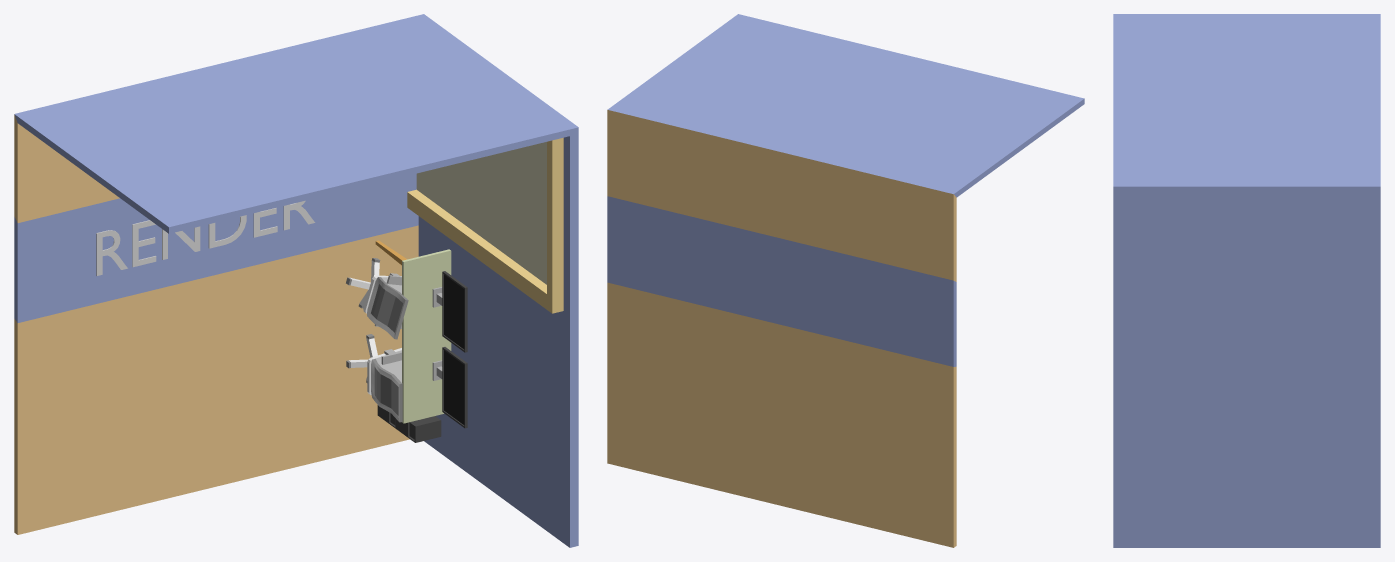
3 renders of one model, left to right at view 1: azimuth 30°, elevation 25°; view 2: azimuth 150°, elevation 25°; view 3: azimuth 270°, elevation 25°, orthographic. The views are drawn at different scales.
Parts seen in each view (by area): view 1: Cube.001, Cube.045, Cube.046, Cube.048, Cube.050, Cube.047, Text, Cube.051, Cube.055, Cube.052, Cube.049, Cube.062; view 2: Cube.045, Cube.001, Cube.046; view 3: Cube.001.
Boxes of the visible parts, x1=… form: Cube.001: x1=14, y1=14, x2=578, y2=547; Cube.045: x1=14, y1=115, x2=418, y2=534; Cube.046: x1=14, y1=173, x2=418, y2=322; Cube.048: x1=416, y1=142, x2=546, y2=284; Cube.050: x1=402, y1=249, x2=451, y2=423; Cube.047: x1=407, y1=137, x2=563, y2=313; Text: x1=96, y1=200, x2=315, y2=275; Cube.051: x1=346, y1=258, x2=408, y2=339; Cube.055: x1=367, y1=348, x2=402, y2=422; Cube.052: x1=442, y1=271, x2=467, y2=352; Cube.049: x1=442, y1=347, x2=467, y2=428; Cube.062: x1=396, y1=416, x2=441, y2=442; Cube.045: x1=607, y1=110, x2=956, y2=547; Cube.001: x1=607, y1=14, x2=1084, y2=197; Cube.046: x1=607, y1=196, x2=956, y2=366; Cube.001: x1=1113, y1=14, x2=1380, y2=547.
Size of the model in its own units: 6.11 by 5.96 by 4.
